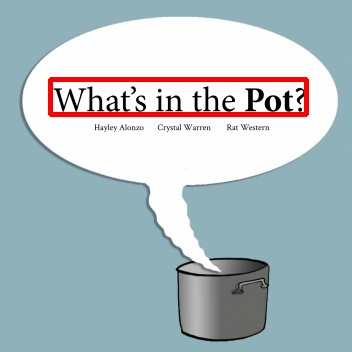latin: (50, 79, 306, 114)
